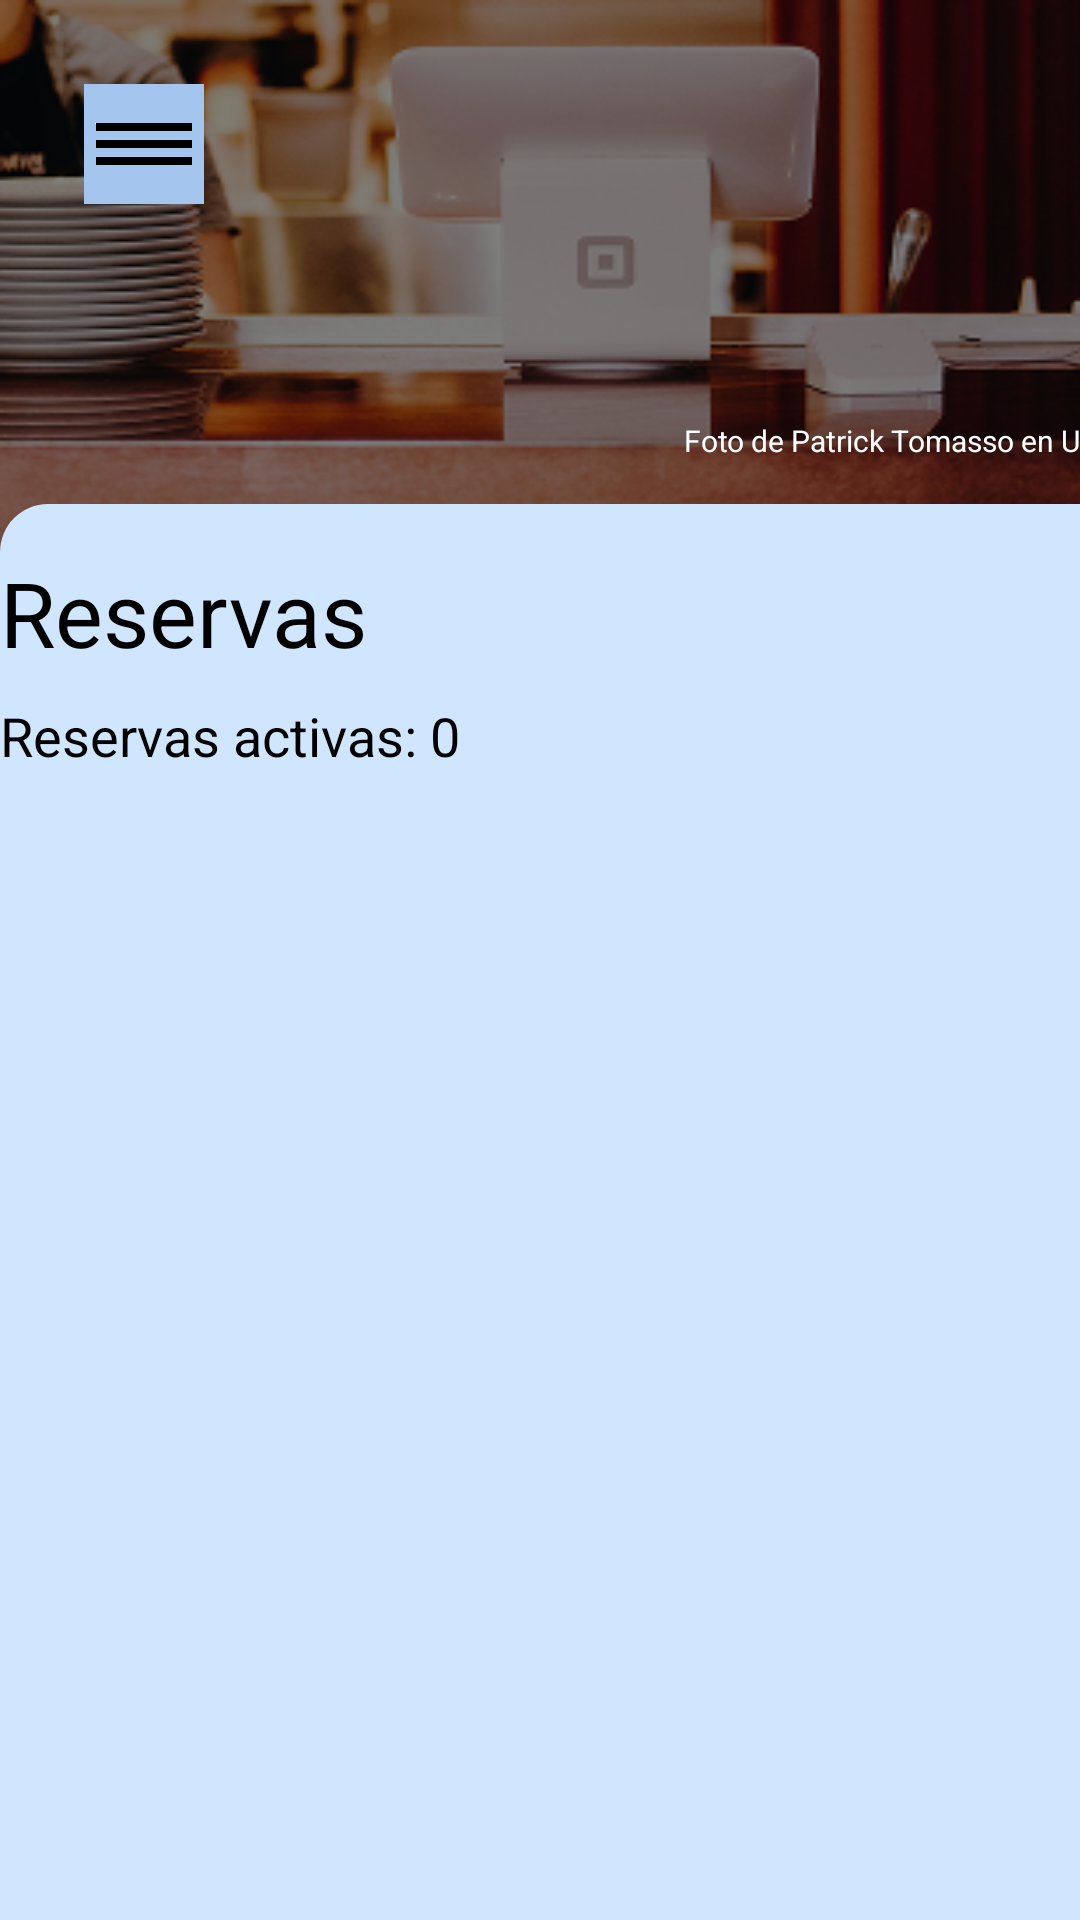

Screen size 1080 × 1920. Icon name, then its center in pixels as (x=x, y=y):
menu: (x=144, y=144)
